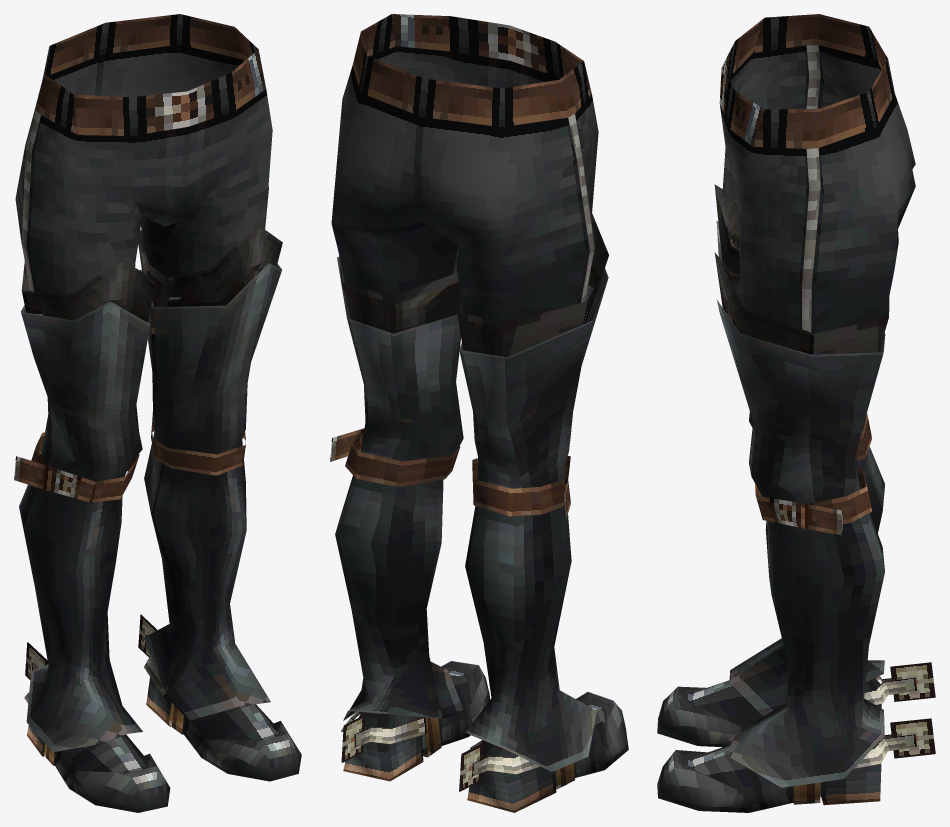
File: m_legging189.obj
3 views of the same model, side by side, from view 1: azimuth 30°, elevation 25°; view 2: azimuth 150°, elevation 25°; view 3: azimuth 270°, elevation 25° (orthographic). The views are drawn at different scales.
Parts seen in each view (by area): view 1: mesh00, mesh01; view 2: mesh00, mesh01; view 3: mesh00, mesh01.
Boxes of the visible parts, left/top/right/bottom form: mesh00: left=14, top=14, right=301, bottom=812; mesh01: left=21, top=60, right=244, bottom=291; mesh00: left=330, top=14, right=628, bottom=812; mesh01: left=568, top=114, right=594, bottom=302; mesh00: left=657, top=14, right=935, bottom=812; mesh01: left=802, top=45, right=820, bottom=332.
Bounding box in the file's own units: 40.2 × 108 × 38.67.
Materials: 2 (2 with a texture image).
